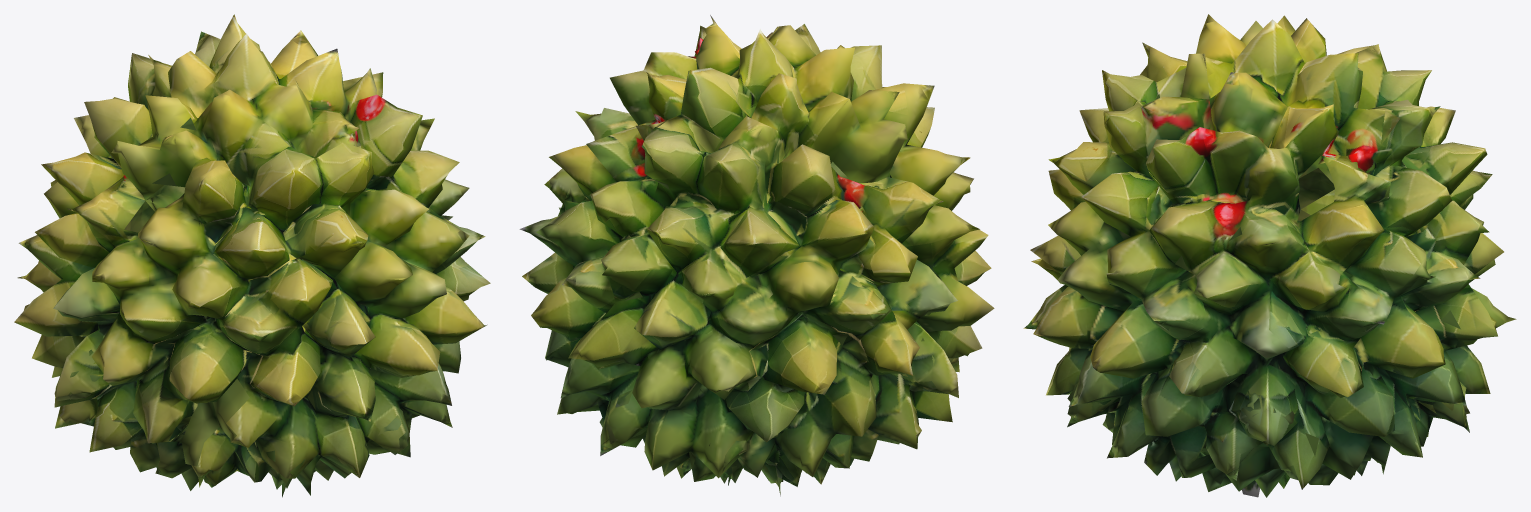
File: BushProp.glb
3 renders of one model, left to right at view 1: azimuth 30°, elevation 25°; view 2: azimuth 150°, elevation 25°; view 3: azimuth 270°, elevation 25°, orthographic. The views are drawn at different scales.
Parts seen in each view (by area): view 1: texture_mapping; view 2: texture_mapping; view 3: texture_mapping.
Boxes of the visible parts, left/top/right/bottom form: texture_mapping: left=14, top=14, right=490, bottom=497; texture_mapping: left=519, top=15, right=994, bottom=496; texture_mapping: left=1023, top=14, right=1516, bottom=497.
Bounding box in the file's own units: 0.9358 × 0.9693 × 0.974.
1 material, 1 textured.
